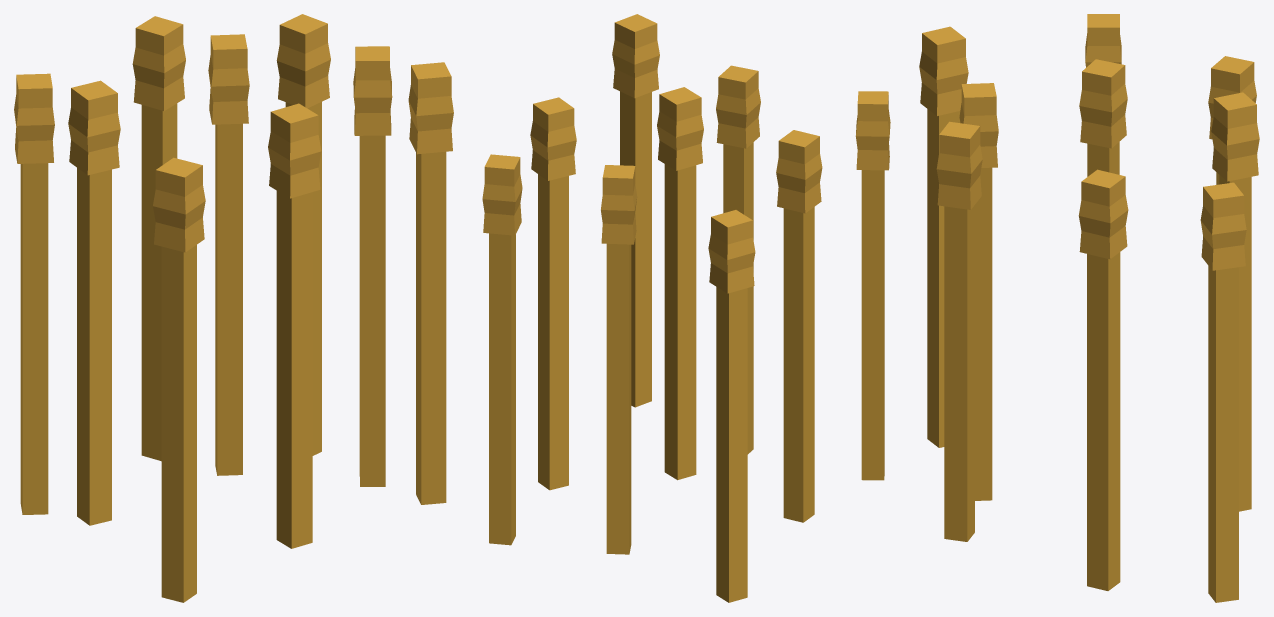
The model's file is wheat_ready.glb.
The picture shows the model from 3 angles, left to right: view 1: azimuth 30°, elevation 25°; view 2: azimuth 150°, elevation 25°; view 3: azimuth 270°, elevation 25°; orthographic projection. The views are drawn at different scales.
Visible parts, largest first — view 1: wheat; view 2: wheat; view 3: wheat.
Boxes of the visible parts, <box> form: wheat: <box>14,14,453,602</box>; wheat: <box>482,14,890,602</box>; wheat: <box>919,14,1259,602</box>.
Size of the model in its own units: 0.8691 by 1.26 by 0.8375.
